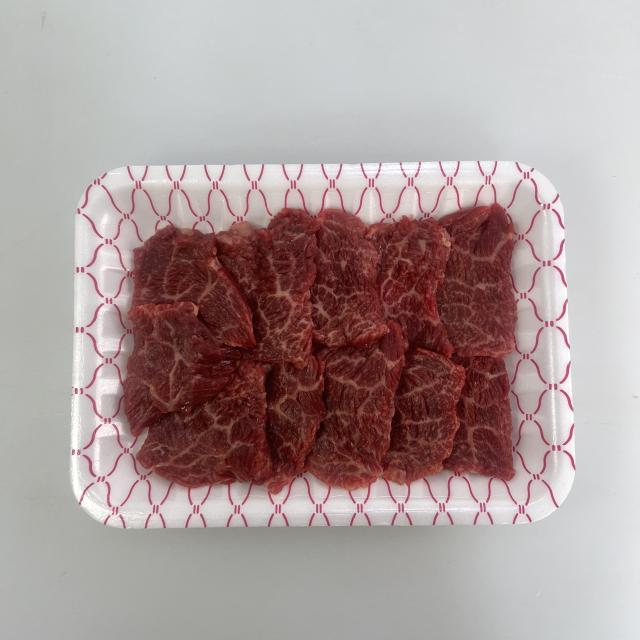beef: (382, 208, 530, 475), (130, 230, 258, 492), (270, 217, 388, 485)
